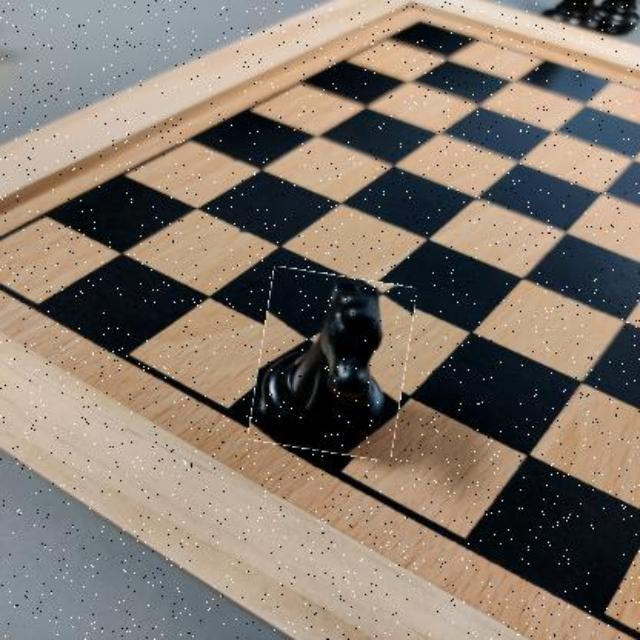black-knight: (254, 271, 410, 457)
